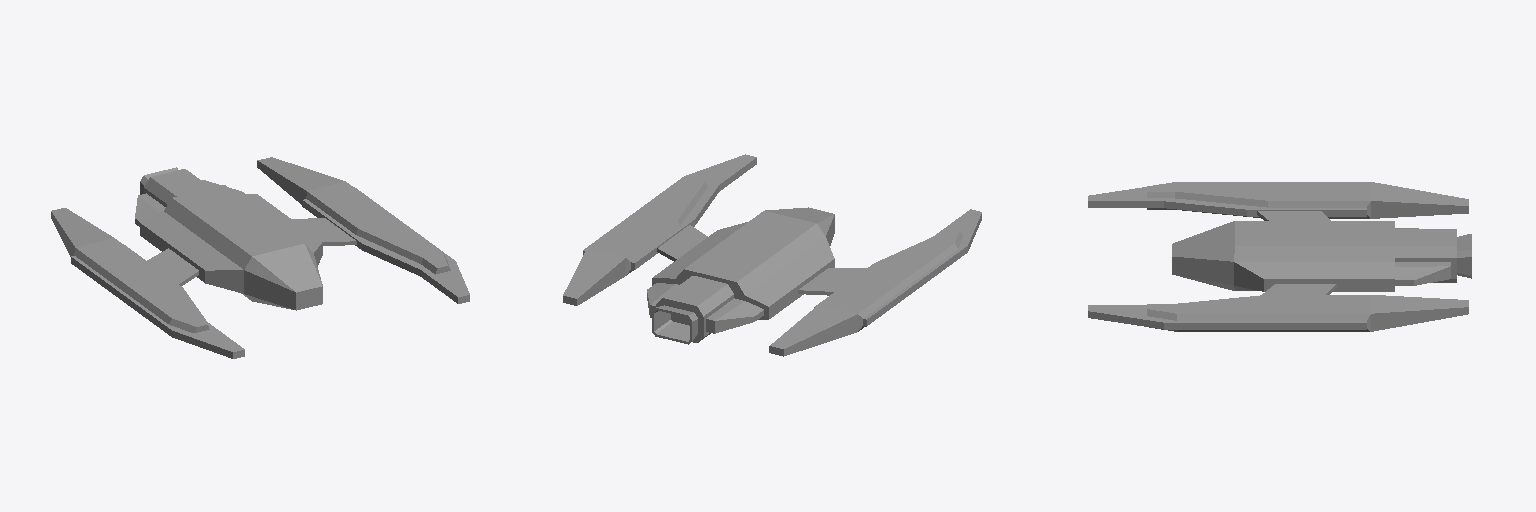
File: Interceptor.obj
3 views of the same model, side by side, from view 1: azimuth 30°, elevation 25°; view 2: azimuth 150°, elevation 25°; view 3: azimuth 270°, elevation 25° (orthographic).
Visible parts, largest first — view 1: Interceptor_Cube.005; view 2: Interceptor_Cube.005; view 3: Interceptor_Cube.005.
Boxes of the visible parts, box(x1,y1,x2,y2) form: Interceptor_Cube.005: box(51, 157, 469, 358); Interceptor_Cube.005: box(563, 154, 981, 356); Interceptor_Cube.005: box(1088, 182, 1471, 331).
Size of the model in its own units: 8.07 by 1.22 by 9.44.